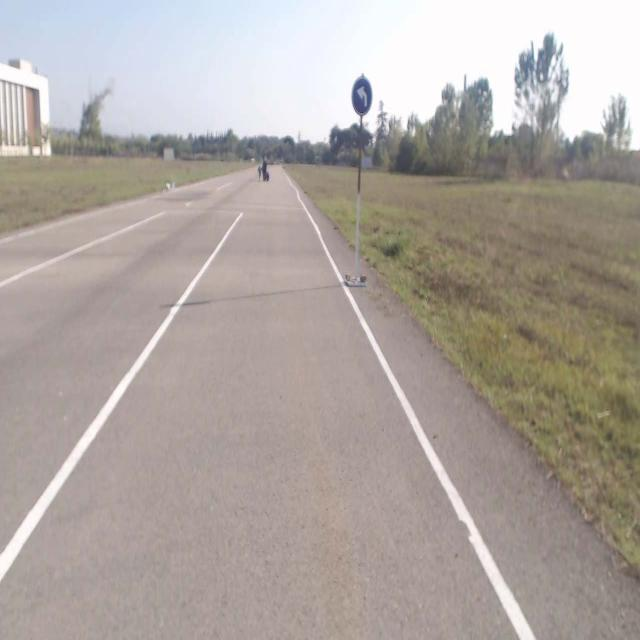sol: (352, 77, 372, 115)
